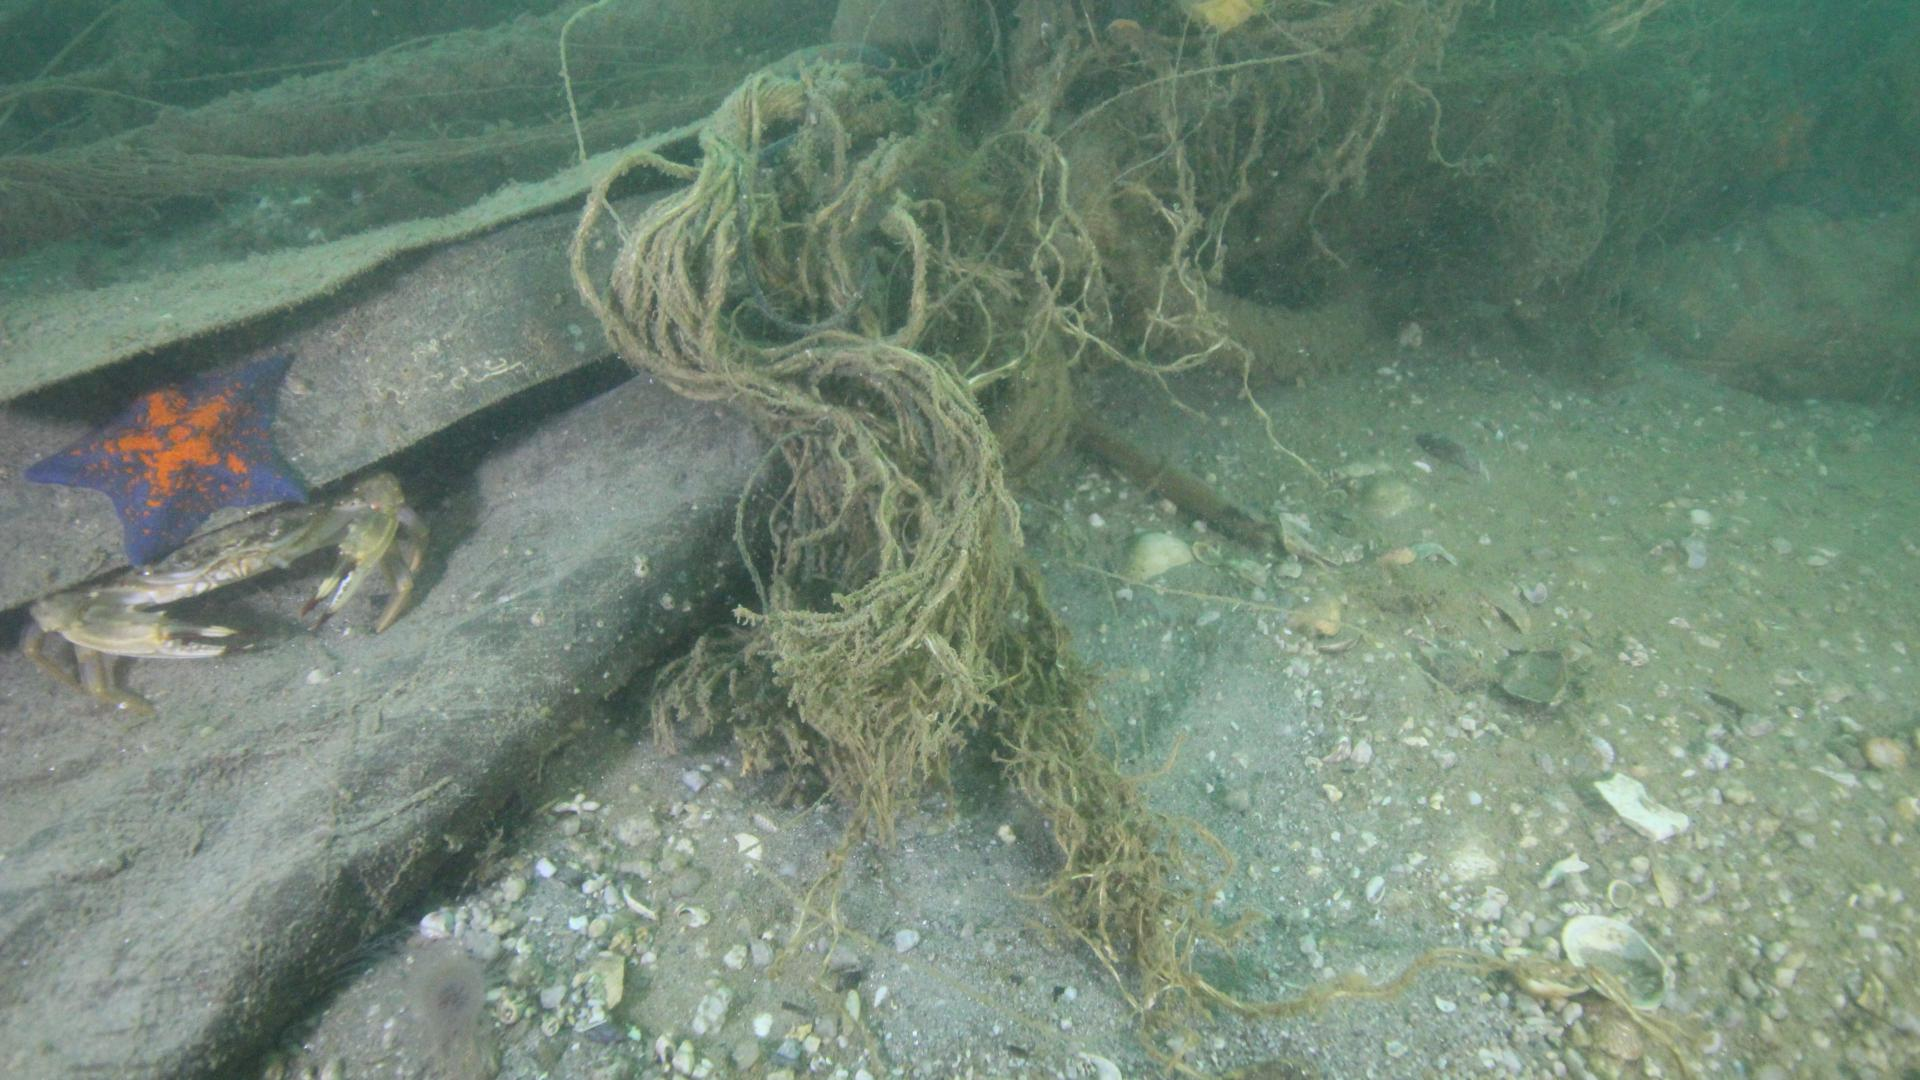rope: (0, 0, 740, 243)
